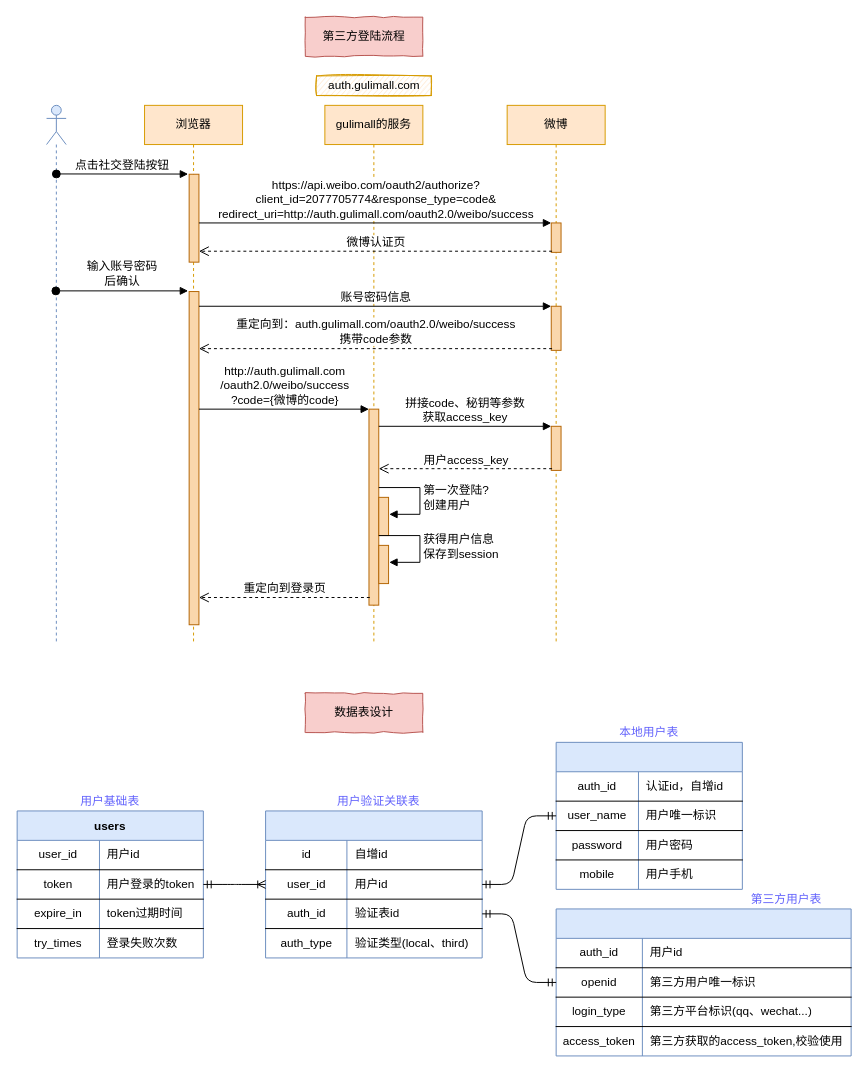
This 868x1073 diagram has some shape labels left out. Here are the shapes that lost their labels. From the top down, the box of each, then its label:
(555, 741, 742, 889): user_local_auth
(265, 810, 482, 958): user_auth_rel
(555, 908, 851, 1056): user_third_auth
